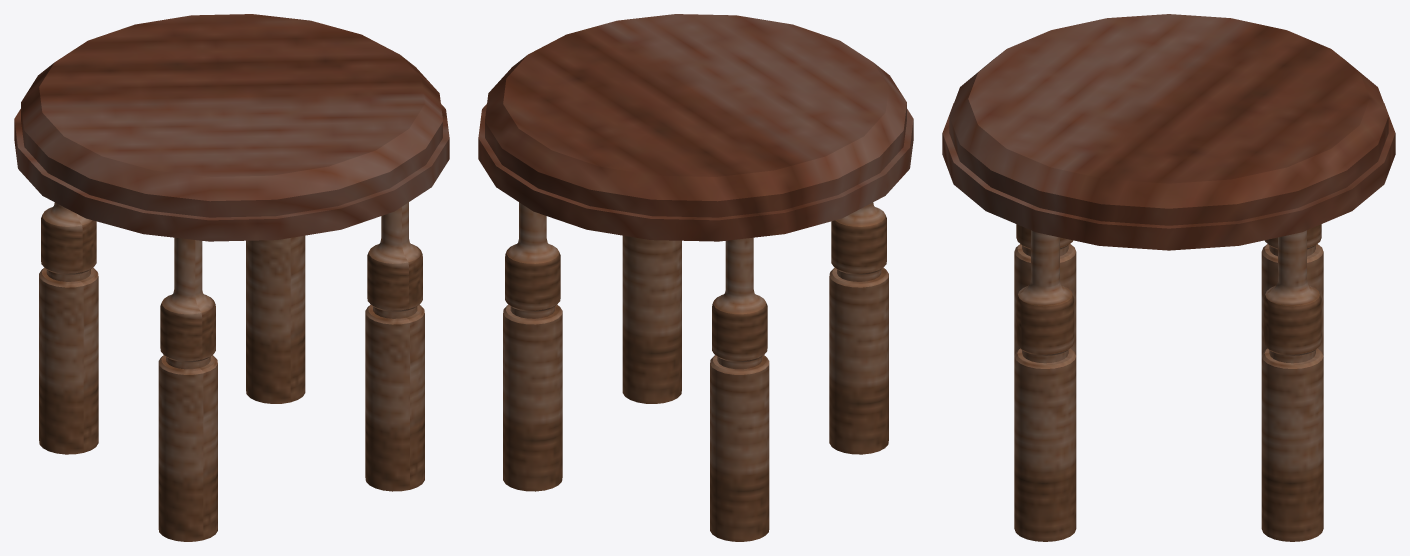
The model's file is smallTable.fbx.
The picture shows the model from 3 angles, left to right: view 1: azimuth 30°, elevation 25°; view 2: azimuth 150°, elevation 25°; view 3: azimuth 270°, elevation 25°; orthographic projection. The views are drawn at different scales.
Visible parts, largest first — view 1: smallTable; view 2: smallTable; view 3: smallTable.
Part boxes in pixels (x1,y1,x2,y2): smallTable: [14, 14, 449, 541]; smallTable: [478, 14, 913, 541]; smallTable: [942, 14, 1395, 541].
Bounding box in the file's own units: 137 × 126 × 137.
